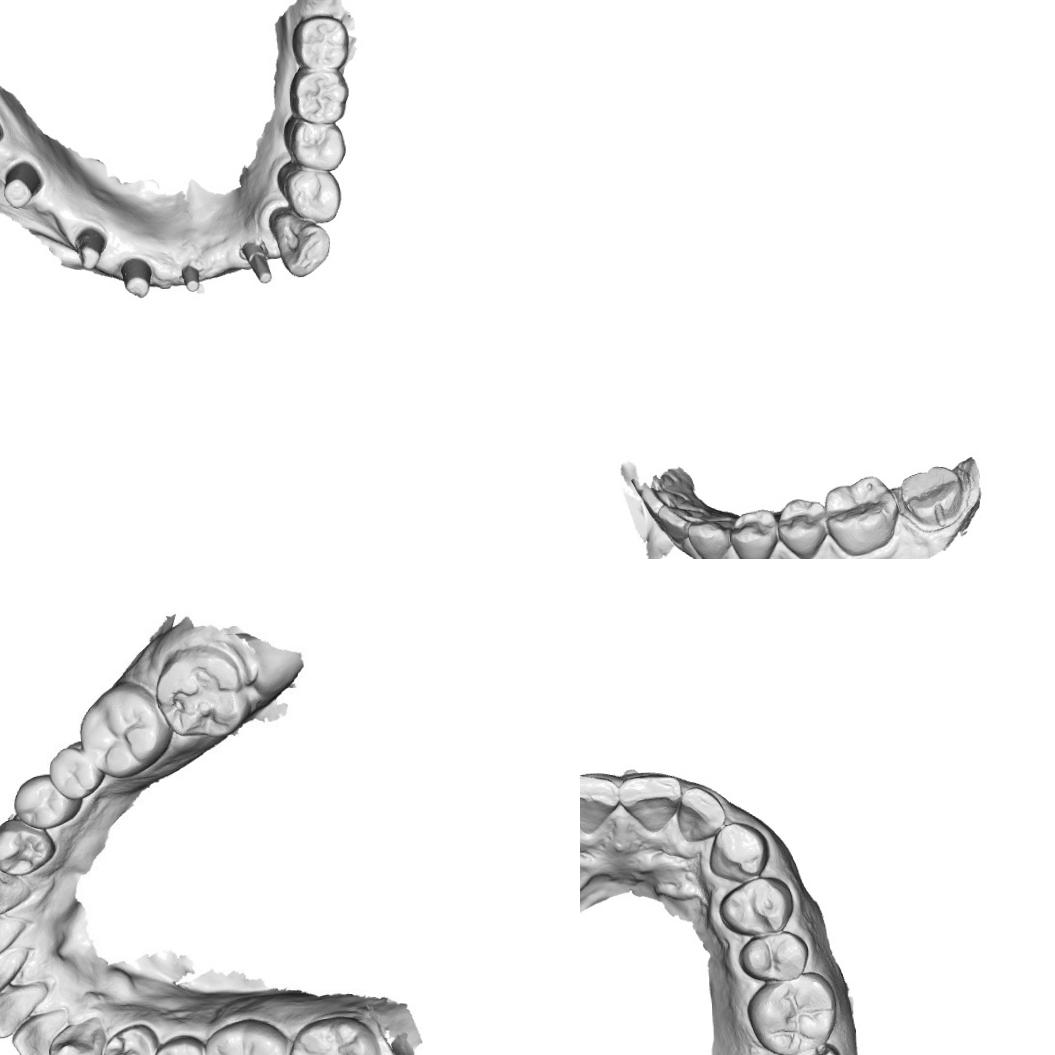abutment: (0, 160, 45, 212), (116, 254, 154, 300), (72, 224, 109, 271), (239, 238, 273, 286), (179, 263, 202, 294)
canine: (267, 204, 332, 278), (705, 819, 769, 885), (49, 1015, 105, 1055), (685, 519, 734, 559), (0, 861, 29, 919)
crown: (898, 462, 965, 530)
incisor: (620, 771, 682, 833), (674, 784, 730, 844), (580, 770, 622, 836), (0, 986, 49, 1041), (12, 1014, 63, 1055), (656, 502, 704, 545), (0, 953, 25, 997), (0, 919, 25, 961)
molar: (151, 649, 263, 739), (74, 678, 173, 779), (745, 970, 839, 1055), (823, 473, 901, 557), (287, 1005, 386, 1055), (199, 1013, 292, 1055), (287, 67, 351, 126), (290, 14, 351, 71)
premolar: (716, 873, 796, 938), (276, 159, 342, 225), (737, 928, 811, 985), (281, 112, 347, 174), (0, 818, 58, 883), (776, 495, 828, 559), (16, 772, 75, 826), (47, 744, 100, 802), (728, 508, 778, 559), (102, 1021, 159, 1055), (149, 1034, 208, 1055)
